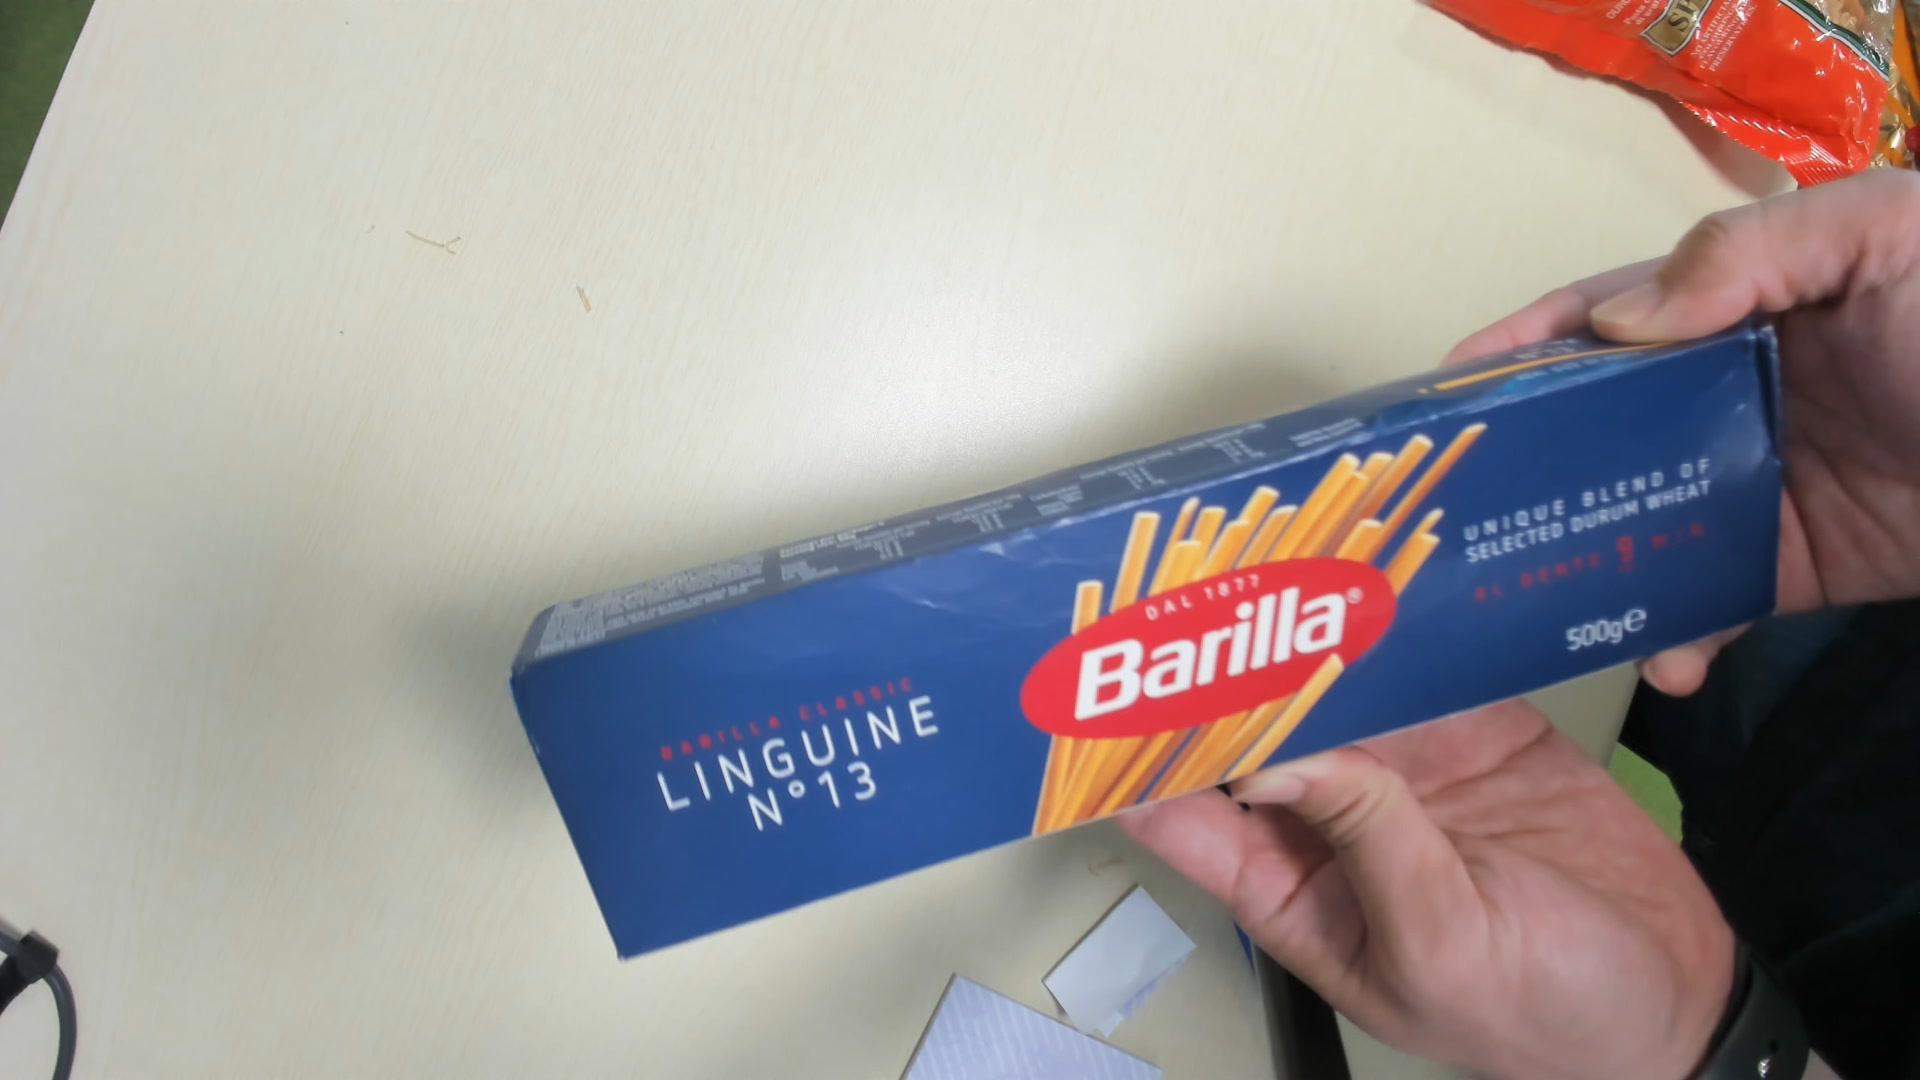Pasta_500-599g_NonHalal_NonHealthy: (502, 319, 1783, 953)
